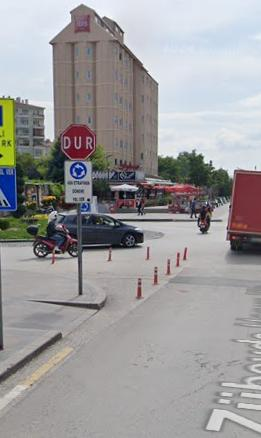crossroads: (69, 162, 88, 177)
stop: (60, 122, 98, 162)
